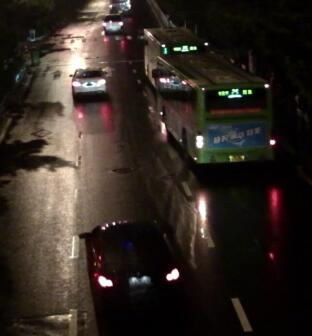bus: (158, 53, 277, 165), (138, 26, 205, 90)
car: (78, 217, 195, 317), (69, 67, 109, 100), (100, 17, 126, 38), (107, 0, 132, 13)
